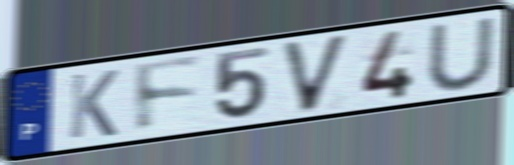4: (359, 27, 417, 102)
5: (212, 46, 274, 122)
F: (131, 54, 206, 138)
K: (66, 67, 122, 142)
U: (424, 14, 497, 93)
V: (278, 30, 353, 116)
